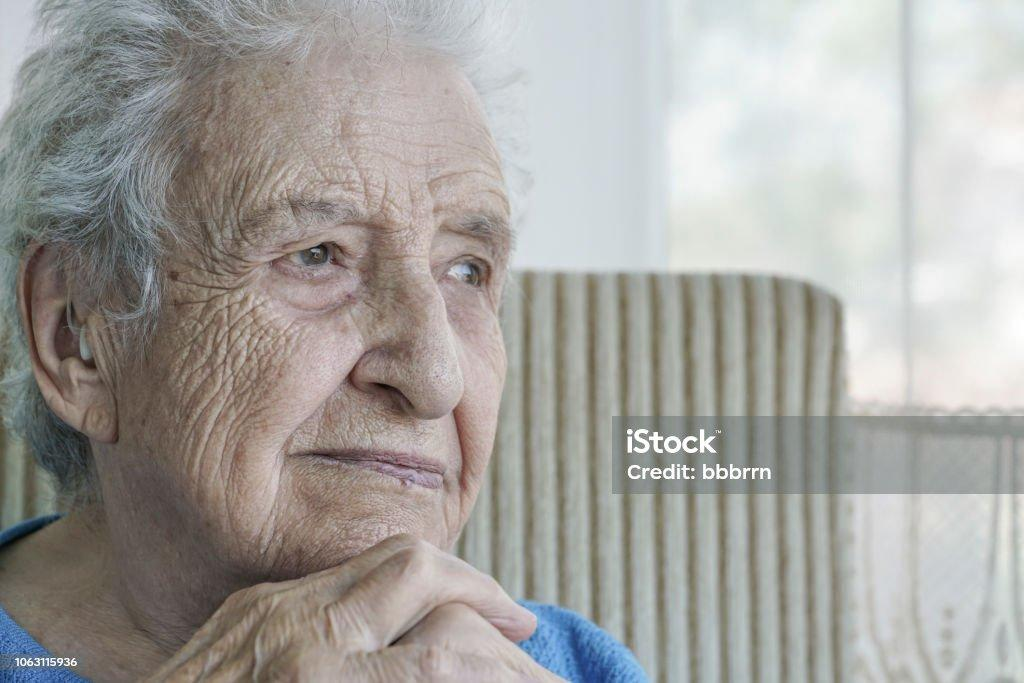Dry-Skin: (153, 233, 285, 450), (333, 93, 475, 192), (398, 288, 501, 405)
